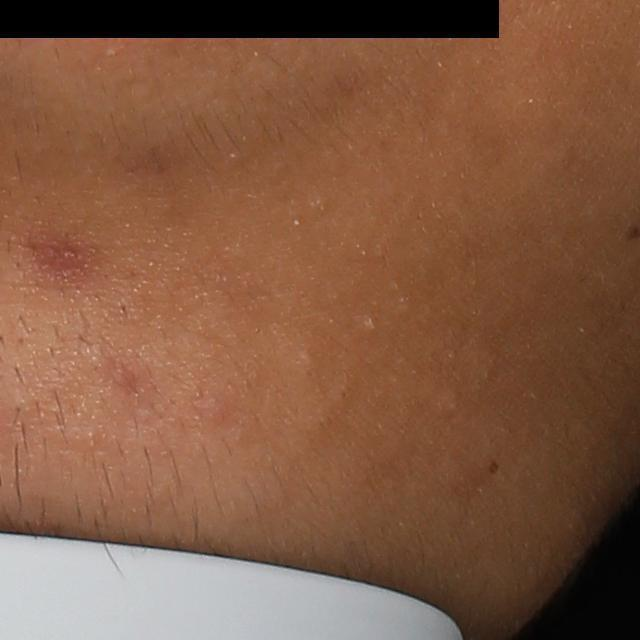comedo: (299, 349, 314, 363), (365, 319, 378, 332)
